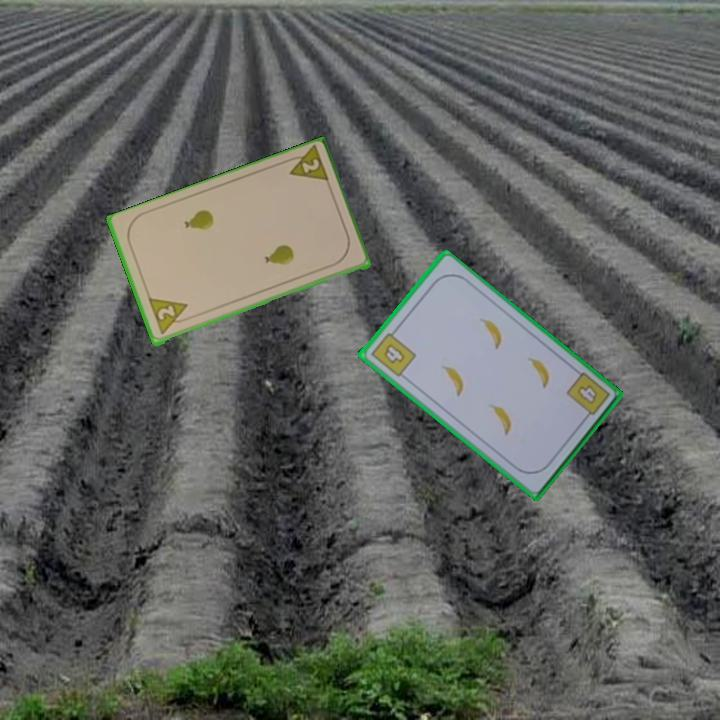2p: (280, 144, 332, 187), (145, 295, 194, 338)
4b: (366, 325, 419, 380), (573, 381, 600, 408)
